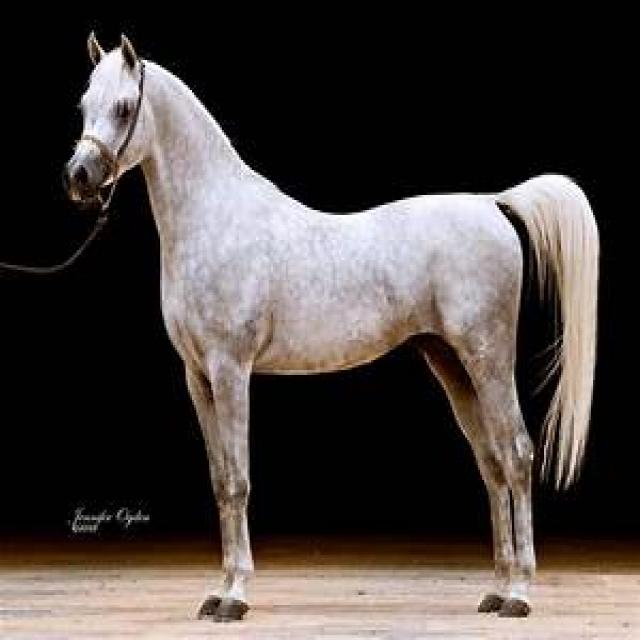horse: (66, 34, 598, 620)
